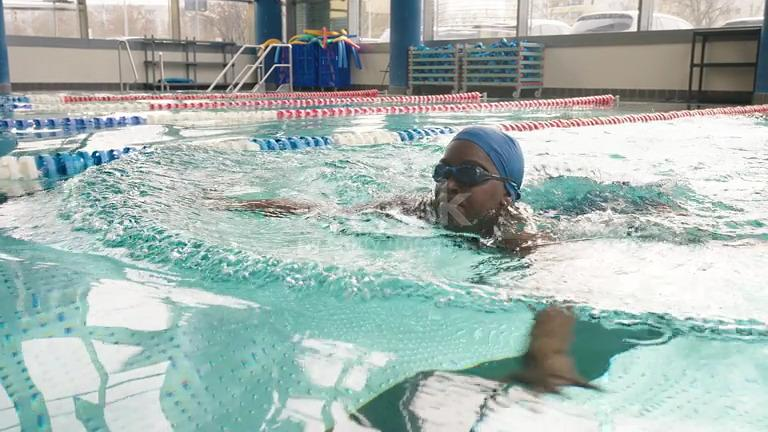Swimming: (228, 83, 695, 326)
